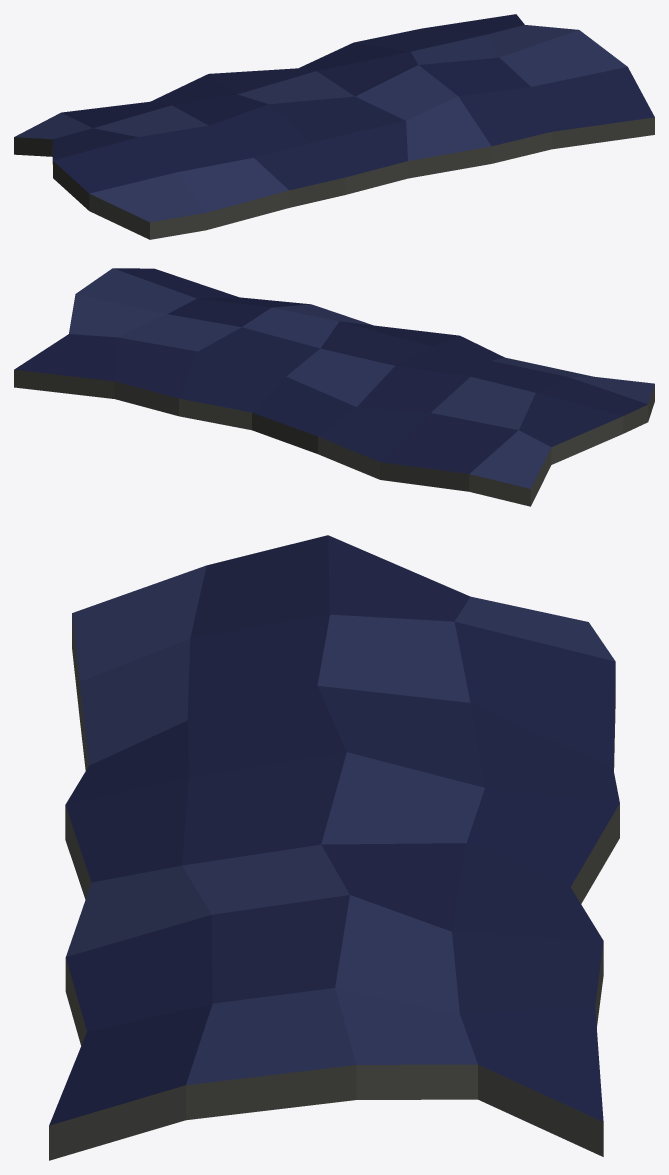
File: deb-panel-02.obj
3 views of the same model, one above another, from view 1: azimuth 30°, elevation 25°; view 2: azimuth 150°, elevation 25°; view 3: azimuth 270°, elevation 25° (orthographic). The views are drawn at different scales.
Parts seen in each view (by area): view 1: deb-panel-02; view 2: deb-panel-02; view 3: deb-panel-02.
Part boxes in pixels (<box>): deb-panel-02: <box>14,14,654,239</box>; deb-panel-02: <box>14,268,654,506</box>; deb-panel-02: <box>49,535,619,1160</box>.
Bounding box in the file's own units: 0.5633 × 0.0552 × 0.2582.
